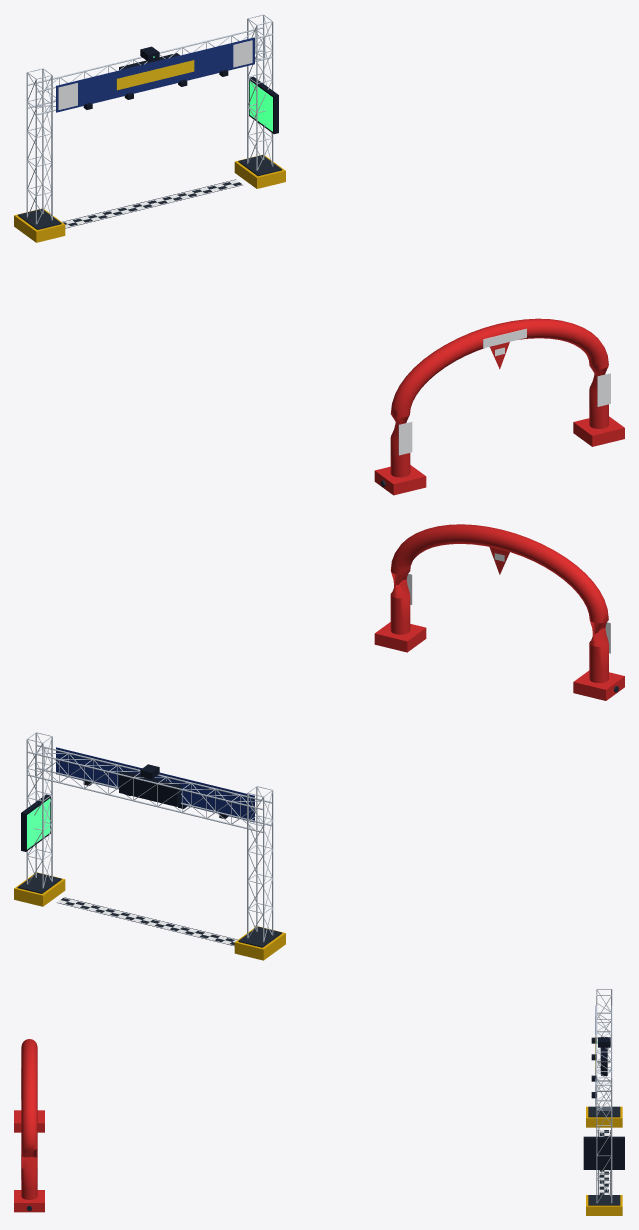
The model's file is arch_finish.glb.
3 views of the same model, one above another, from view 1: azimuth 30°, elevation 25°; view 2: azimuth 150°, elevation 25°; view 3: azimuth 270°, elevation 25° (orthographic). The views are drawn at different scales.
Parts seen in each view (by area): view 1: Arch_Finish_Gantry, Arch_Flamme_Rouge_Preview; view 2: Arch_Finish_Gantry, Arch_Flamme_Rouge_Preview; view 3: Arch_Finish_Gantry, Arch_Flamme_Rouge_Preview.
Boxes of the visible parts, left/top/right/bottom form: Arch_Finish_Gantry: left=14, top=14, right=285, bottom=242; Arch_Flamme_Rouge_Preview: left=374, top=318, right=624, bottom=495; Arch_Finish_Gantry: left=14, top=732, right=285, bottom=960; Arch_Flamme_Rouge_Preview: left=374, top=524, right=624, bottom=700; Arch_Finish_Gantry: left=583, top=989, right=624, bottom=1215; Arch_Flamme_Rouge_Preview: left=14, top=1039, right=44, bottom=1212.
Bounding box in the file's own units: 10.3 × 6.21 × 26.57.
